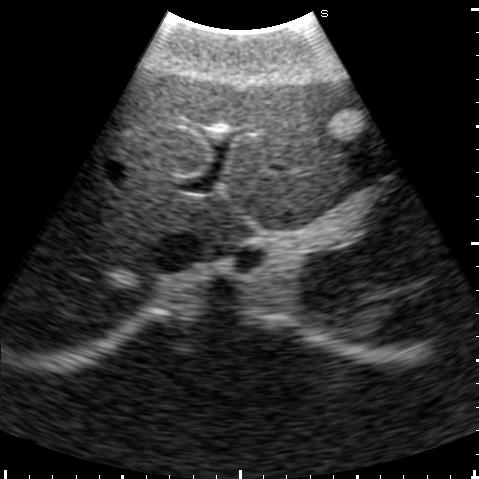IVC: (145, 232, 202, 272)
S1: (191, 195, 257, 260)
S2: (222, 152, 396, 231)
S3: (221, 74, 389, 203)
Tumor: (325, 110, 365, 140)
